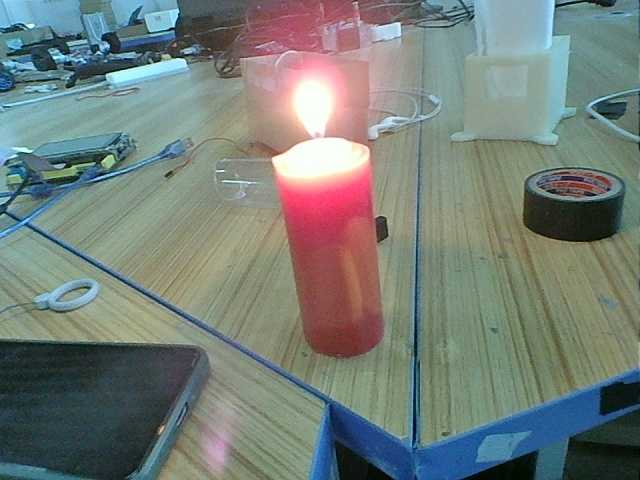candle: (276, 151, 394, 359)
fire: (277, 76, 350, 164)
